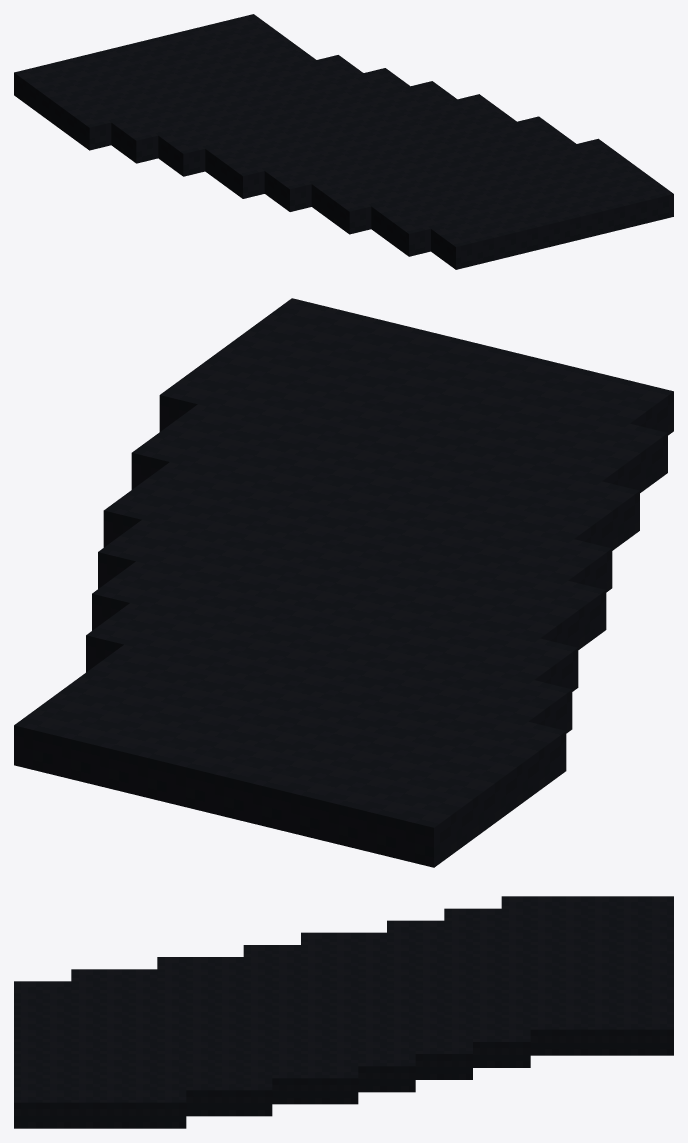
The model's file is CurvaInicialInferior.fbx.
3 renders of one model, top to bottom at view 1: azimuth 30°, elevation 25°; view 2: azimuth 150°, elevation 25°; view 3: azimuth 270°, elevation 25°, orthographic. The views are drawn at different scales.
Visible parts, largest first — view 1: Curva Inicial Inferior; view 2: Curva Inicial Inferior; view 3: Curva Inicial Inferior.
Part boxes in pixels (x1,y1,x2,y2): Curva Inicial Inferior: [14, 14, 673, 269]; Curva Inicial Inferior: [14, 298, 673, 867]; Curva Inicial Inferior: [14, 896, 673, 1128].
Size of the model in its own units: 1700 by 100 by 2300.
Materials: 1 (1 with a texture image).
